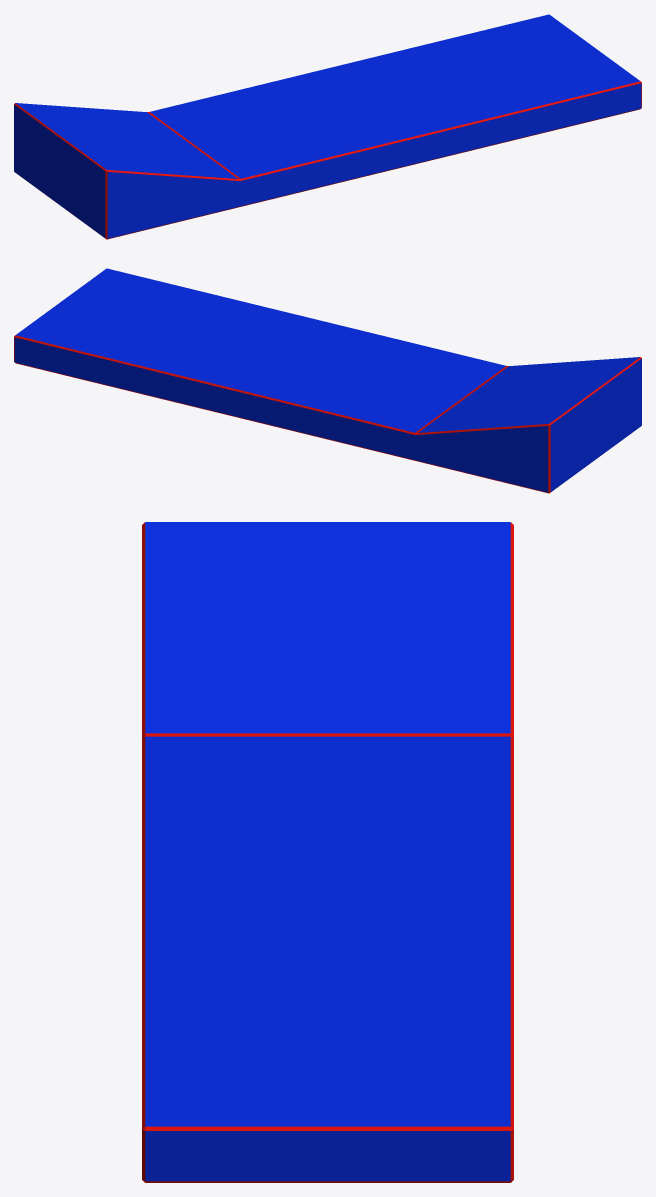
Rendered from L2_Short_Ramp.fbx.
The picture shows the model from 3 angles, top to bottom: view 1: azimuth 30°, elevation 25°; view 2: azimuth 150°, elevation 25°; view 3: azimuth 270°, elevation 25°; orthographic projection. The views are drawn at different scales.
Visible parts, largest first — view 1: L2_Short_Ramp; view 2: L2_Short_Ramp; view 3: L2_Short_Ramp.
Part boxes in pixels (x1,y1,x2,y2): L2_Short_Ramp: [14, 14, 641, 239]; L2_Short_Ramp: [14, 268, 641, 493]; L2_Short_Ramp: [142, 522, 513, 1182].
Bounding box in the file's own units: 2000 × 249 × 600.
